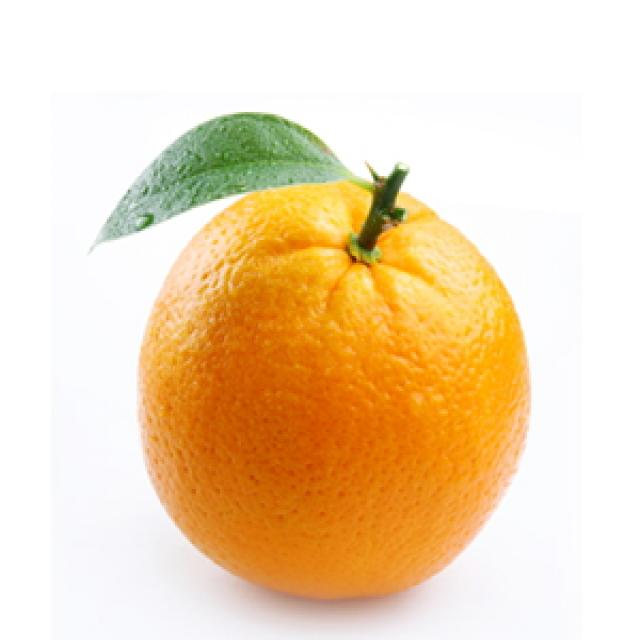orange: (136, 169, 534, 602)
